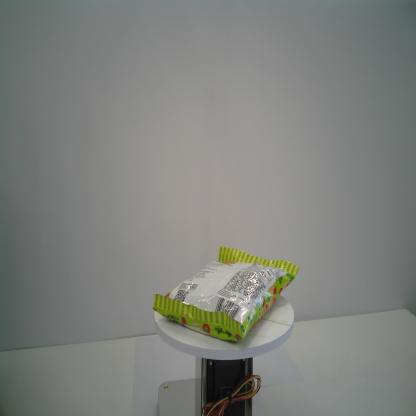Puffed Food: (151, 244, 300, 343)
